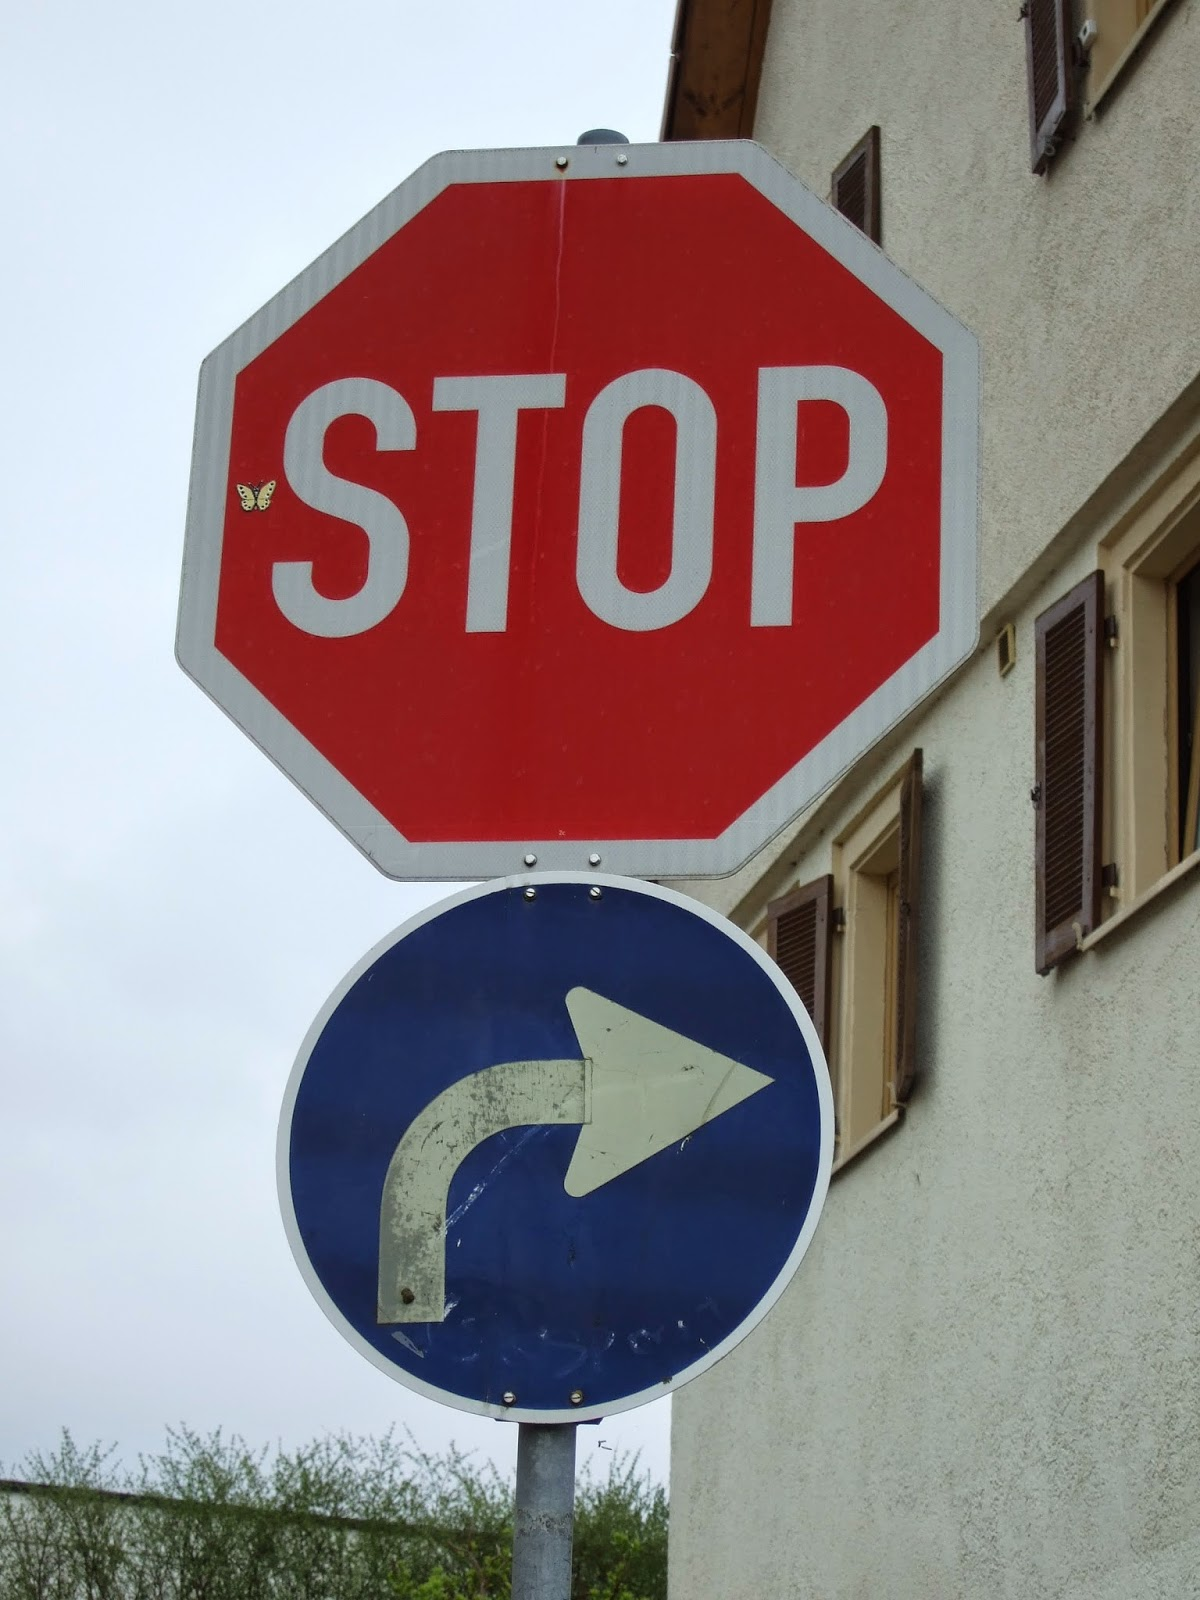stop_sign: (171, 131, 992, 881)
